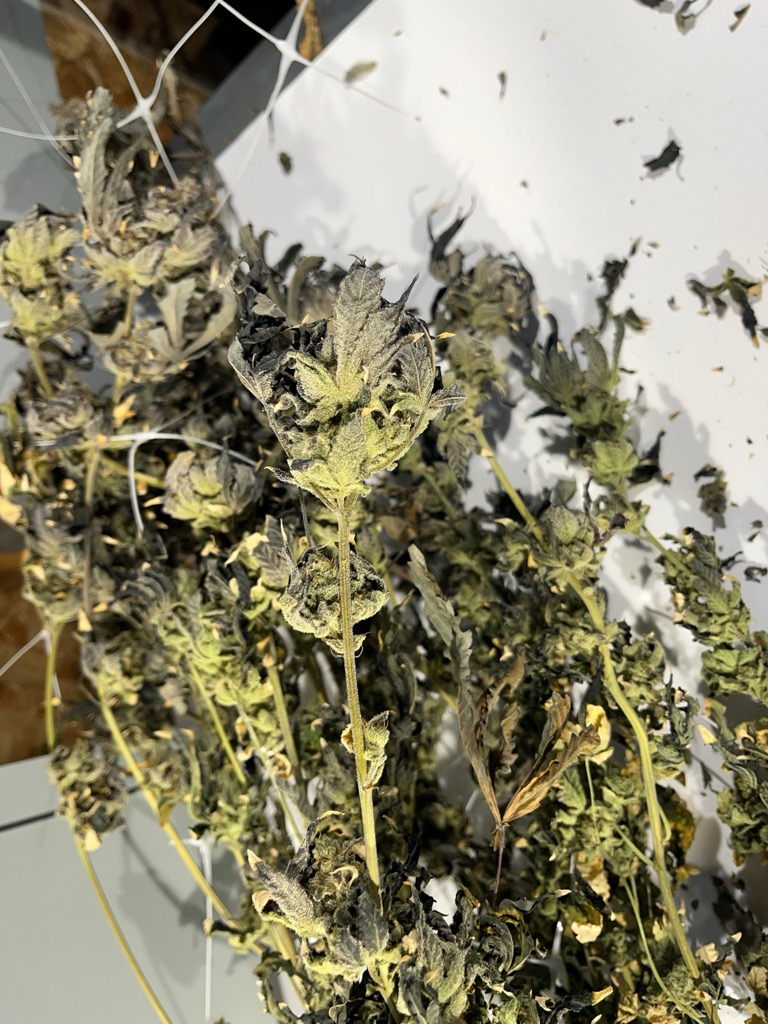Bud: (240, 292, 438, 496), (155, 442, 265, 527)
Leaf: (398, 548, 476, 653), (330, 405, 368, 492), (205, 446, 241, 510), (441, 433, 478, 494), (240, 535, 289, 581)
Leaf-Attachment: (327, 486, 351, 504)
Stem: (309, 488, 399, 931), (628, 688, 671, 942)
